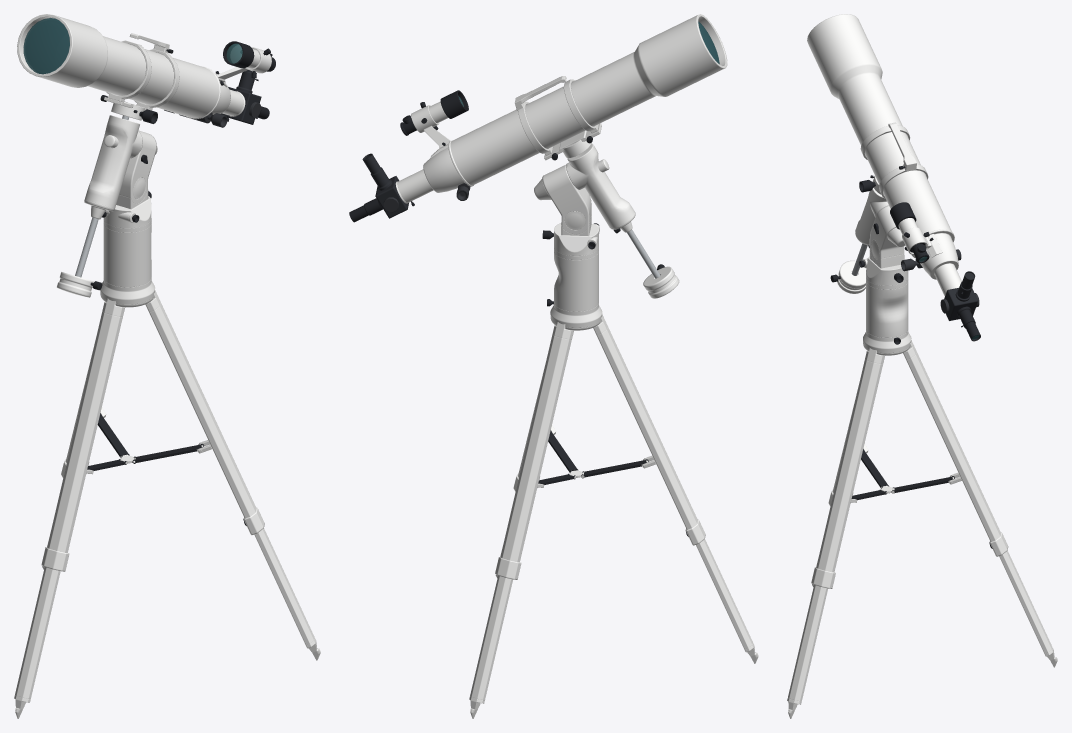
File: telescope_refractor_classified.glb
3 renders of one model, left to right at view 1: azimuth 30°, elevation 25°; view 2: azimuth 150°, elevation 25°; view 3: azimuth 270°, elevation 25°, orthographic. The views are drawn at different scales.
Parts seen in each view (by area): view 1: OpticalTubeAndSunShade_n4_p0_c1, TripodAndSpreader_n8_p0_c0, EquatorialMount_n0_p0_c0, TripodAndSpreader_n8_p0_c2, EquatorialMount_n4_p0_c0, TripodAndSpreader_n8_p0_c5, ObjectiveLens_n12_p0_c1, TeachingObjectiveFront, TripodAndSpreader_n8_p0_c3, EquatorialMount_n2_p0_c0, ObjectiveCell_n14_p0_c17, CounterweightAndShaft_n4_p0_c5 (+4 smaller); view 2: OpticalTubeAndSunShade_n4_p0_c1, TripodAndSpreader_n8_p0_c1, EquatorialMount_n0_p0_c0, TripodAndSpreader_n8_p0_c0, EquatorialMount_n4_p0_c0, TripodAndSpreader_n8_p0_c4, EquatorialMount_n2_p0_c0, TripodAndSpreader_n8_p0_c5, Focuser_n4_p0_c17, CounterweightAndShaft_n4_p0_c5, FinderScope_n4_p0_c2; view 3: OpticalTubeAndSunShade_n4_p0_c1, TripodAndSpreader_n8_p0_c2, EquatorialMount_n0_p0_c0, TripodAndSpreader_n8_p0_c1, TripodAndSpreader_n8_p0_c3, EquatorialMount_n2_p0_c0, TripodAndSpreader_n8_p0_c4, EquatorialMount_n4_p0_c0, CounterweightAndShaft_n4_p0_c5, StarDiagonal_n14_p0_c22, Focuser_n4_p0_c17, TubeRingsAndDovetail_n4_p0_c8.
Part boxes in pixels (left/top/right/bottom): OpticalTubeAndSunShade_n4_p0_c1: left=17, top=14, right=230, bottom=119; TripodAndSpreader_n8_p0_c0: left=47, top=298, right=124, bottom=552; EquatorialMount_n0_p0_c0: left=100, top=196, right=154, bottom=307; TripodAndSpreader_n8_p0_c2: left=145, top=290, right=256, bottom=518; EquatorialMount_n4_p0_c0: left=84, top=115, right=142, bottom=219; TripodAndSpreader_n8_p0_c5: left=15, top=567, right=60, bottom=699; ObjectiveLens_n12_p0_c1: left=23, top=18, right=69, bottom=74; TeachingObjectiveFront: left=25, top=20, right=69, bottom=72; TripodAndSpreader_n8_p0_c3: left=254, top=528, right=314, bottom=645; EquatorialMount_n2_p0_c0: left=116, top=130, right=156, bottom=209; ObjectiveCell_n14_p0_c17: left=17, top=14, right=71, bottom=76; CounterweightAndShaft_n4_p0_c5: left=57, top=272, right=94, bottom=297; OpticalTubeAndSunShade_n4_p0_c1: left=423, top=14, right=727, bottom=192; TripodAndSpreader_n8_p0_c1: left=500, top=322, right=573, bottom=562; EquatorialMount_n0_p0_c0: left=550, top=223, right=602, bottom=330; TripodAndSpreader_n8_p0_c0: left=593, top=315, right=697, bottom=529; EquatorialMount_n4_p0_c0: left=566, top=143, right=635, bottom=232; TripodAndSpreader_n8_p0_c4: left=470, top=575, right=512, bottom=700; EquatorialMount_n2_p0_c0: left=542, top=165, right=591, bottom=236; TripodAndSpreader_n8_p0_c5: left=696, top=539, right=752, bottom=649; Focuser_n4_p0_c17: left=395, top=169, right=433, bottom=203; CounterweightAndShaft_n4_p0_c5: left=643, top=266, right=679, bottom=298; FinderScope_n4_p0_c2: left=411, top=105, right=450, bottom=147; OpticalTubeAndSunShade_n4_p0_c1: left=807, top=14, right=958, bottom=279; TripodAndSpreader_n8_p0_c2: left=816, top=348, right=884, bottom=572; EquatorialMount_n0_p0_c0: left=863, top=256, right=911, bottom=355; TripodAndSpreader_n8_p0_c1: left=903, top=340, right=1000, bottom=541; TripodAndSpreader_n8_p0_c3: left=788, top=585, right=828, bottom=701; EquatorialMount_n2_p0_c0: left=869, top=205, right=904, bottom=268; TripodAndSpreader_n8_p0_c4: left=999, top=550, right=1052, bottom=653; EquatorialMount_n4_p0_c0: left=855, top=188, right=888, bottom=245; CounterweightAndShaft_n4_p0_c5: left=837, top=260, right=866, bottom=293; StarDiagonal_n14_p0_c22: left=944, top=288, right=977, bottom=320; Focuser_n4_p0_c17: left=934, top=263, right=961, bottom=296; TubeRingsAndDovetail_n4_p0_c8: left=888, top=122, right=916, bottom=171.
Size of the model in its own units: 0.7394 by 1.41 by 0.5725.
